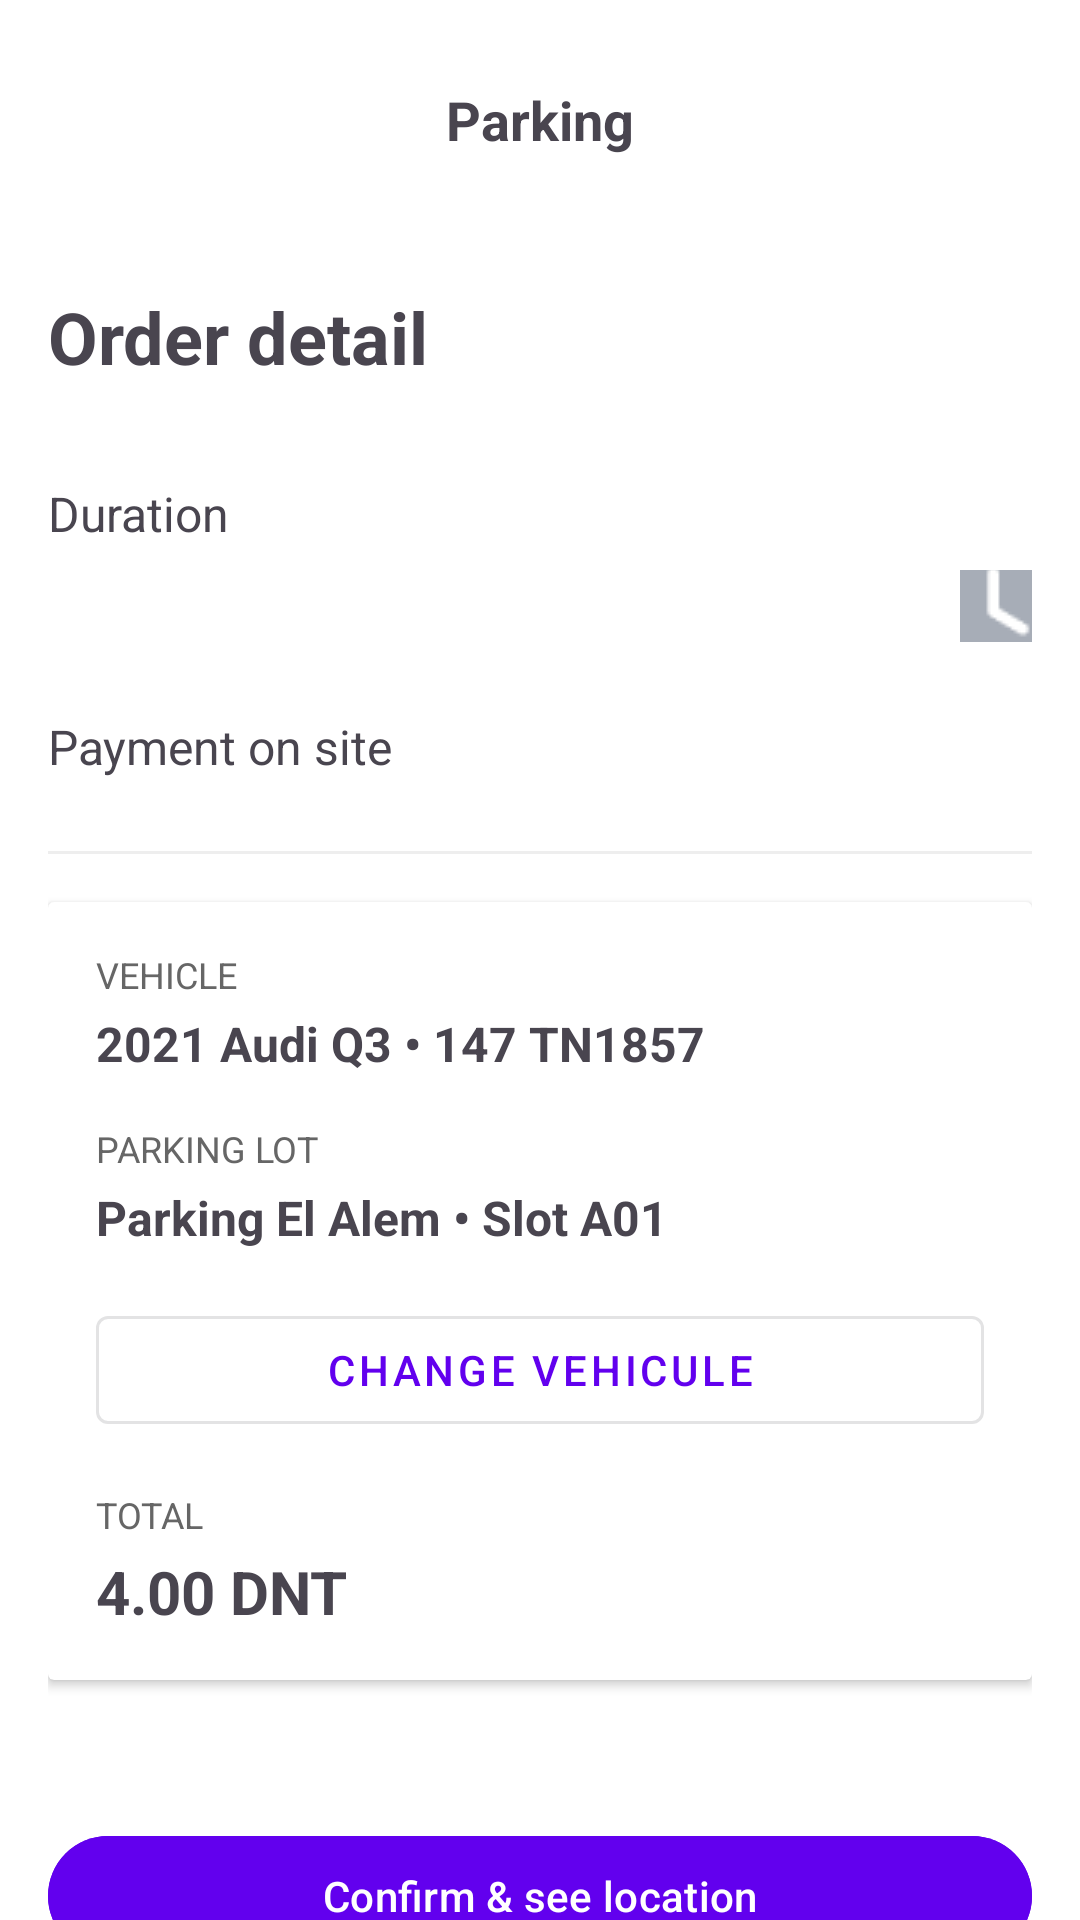

Icon bounding boxes for this 1080 × 1920 phone screenshot, format (x1, y1, x2, y2):
clock: (960, 570, 1032, 642)
